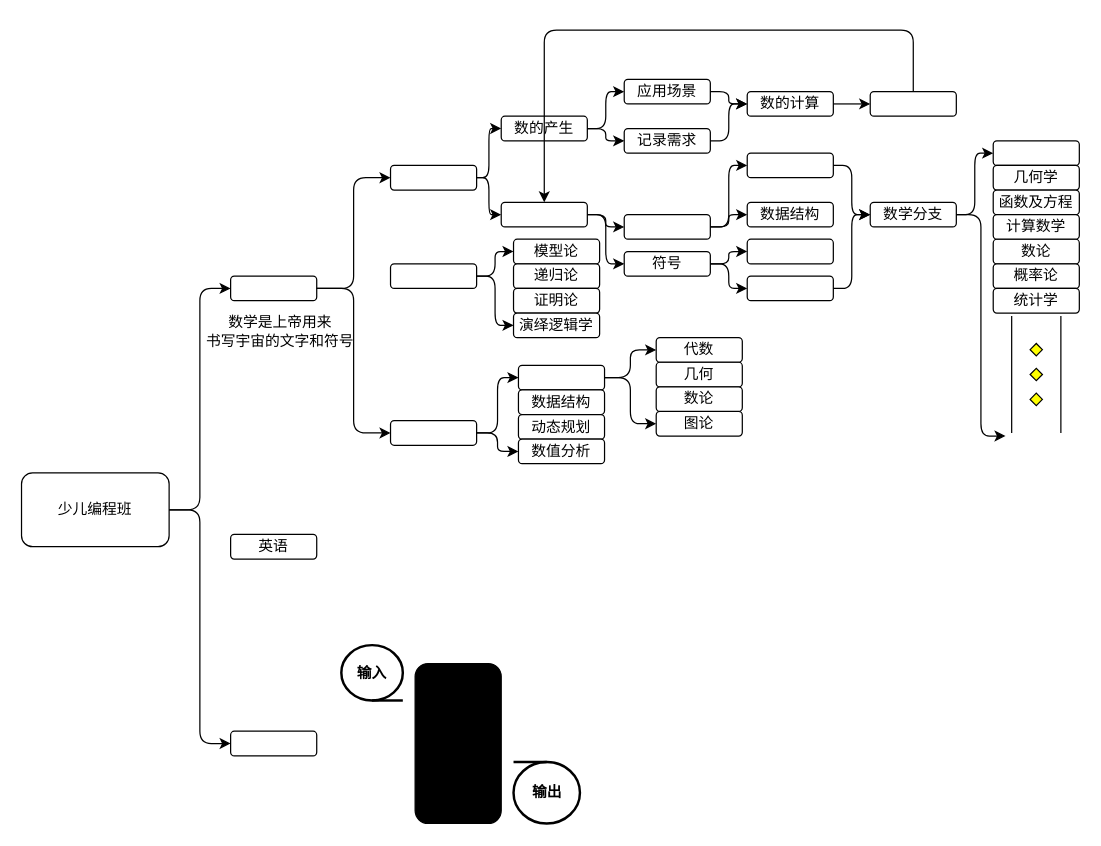
The diagram is 1101 pixels wide and 846 high, and some of its shapes have lost their labels. The shapes that lost their labels are listed below. From the top down, each one's centre as x and y in pixels, then its label:
At point 912,103: "计算的应用".
At point 789,165: "数据类型".
At point 1035,152: "初等代数".
At point 433,177: "数的概念".
At point 543,214: "数的范畴".
At point 666,226: "什么是数据".
At point 789,251: "标识符号".
At point 273,288: "数学".
At point 433,275: "数理逻辑".
At point 789,288: "符号的统一".
At point 561,377: "基本算法".
At point 433,432: "算法".
At point 273,743: "计算机思想".
At point 457,742: "算法模型".
